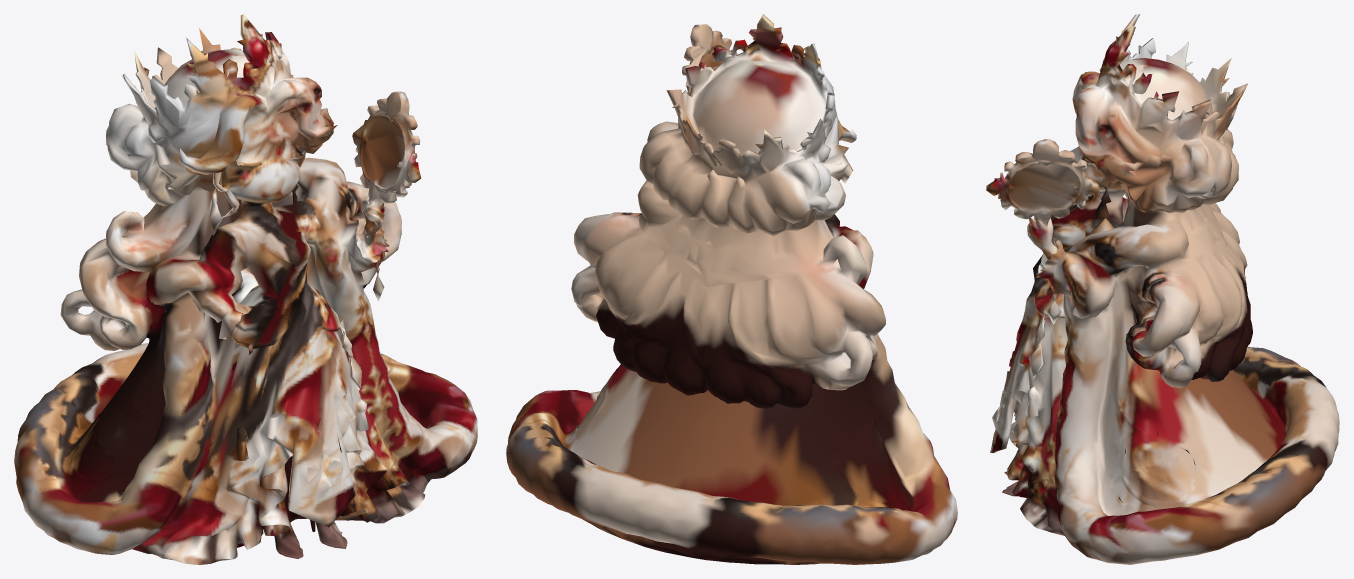
The model's file is queen_painted.glb.
3 renders of one model, left to right at view 1: azimuth 30°, elevation 25°; view 2: azimuth 150°, elevation 25°; view 3: azimuth 270°, elevation 25°, orthographic. The views are drawn at different scales.
Visible parts, largest first — view 1: Body; view 2: Body; view 3: Body.
Part boxes in pixels (left/top/right/bottom): Body: left=14, top=14, right=477, bottom=564; Body: left=506, top=14, right=957, bottom=564; Body: left=986, top=14, right=1339, bottom=564.
Bounding box in the file's own units: 0.8994 × 1 × 0.7054.
Materials: 1 (1 with a texture image).
